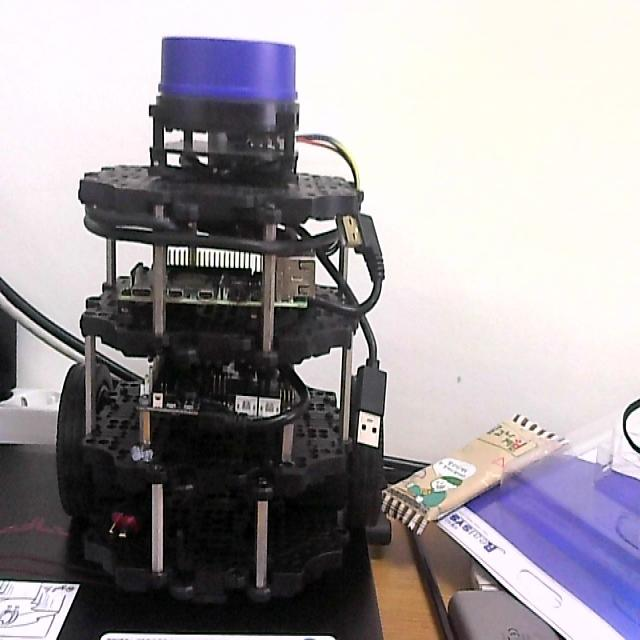turtle: (56, 32, 388, 621)
